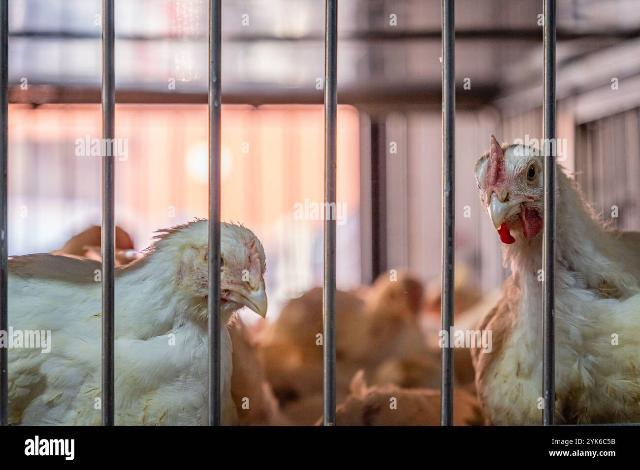Chicken: (8, 220, 269, 425), (472, 133, 640, 425)
